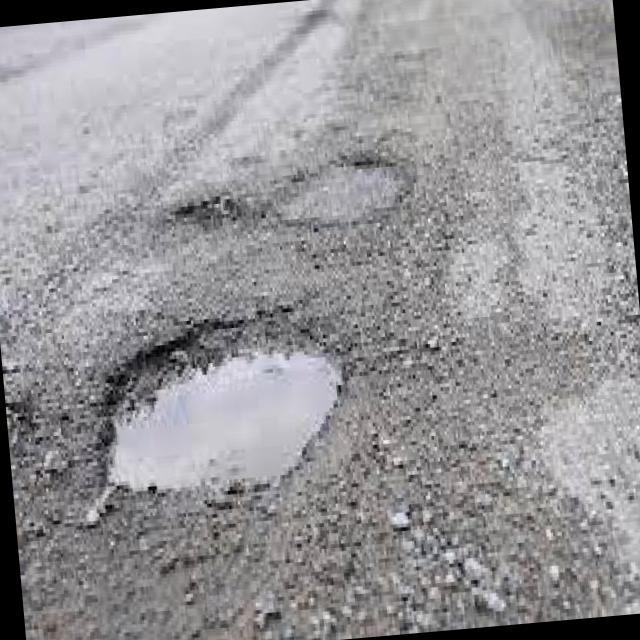pothole: (106, 298, 351, 495), (147, 140, 417, 240)
